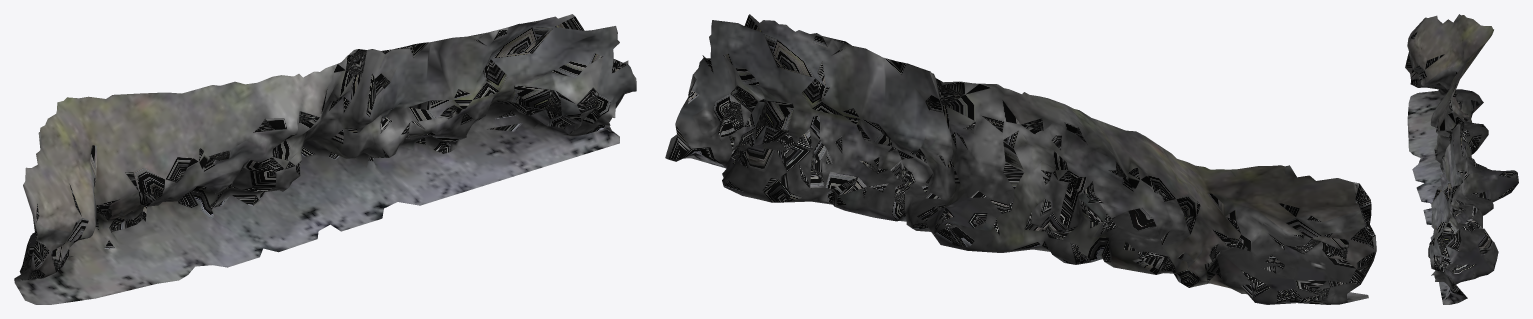
File: bw-rockface-a.lod0.glb
3 renders of one model, left to right at view 1: azimuth 30°, elevation 25°; view 2: azimuth 150°, elevation 25°; view 3: azimuth 270°, elevation 25°, orthographic. The views are drawn at different scales.
Visible parts, largest first — view 1: Object_4; view 2: Object_4; view 3: Object_4.
Boxes of the visible parts, bbox=[...] form: Object_4: bbox=[14, 14, 636, 304]; Object_4: bbox=[665, 14, 1376, 304]; Object_4: bbox=[1405, 14, 1518, 304].
Bounding box in the file's own units: 22 × 5.13 × 5.03.
Materials: 1 (1 with a texture image).
